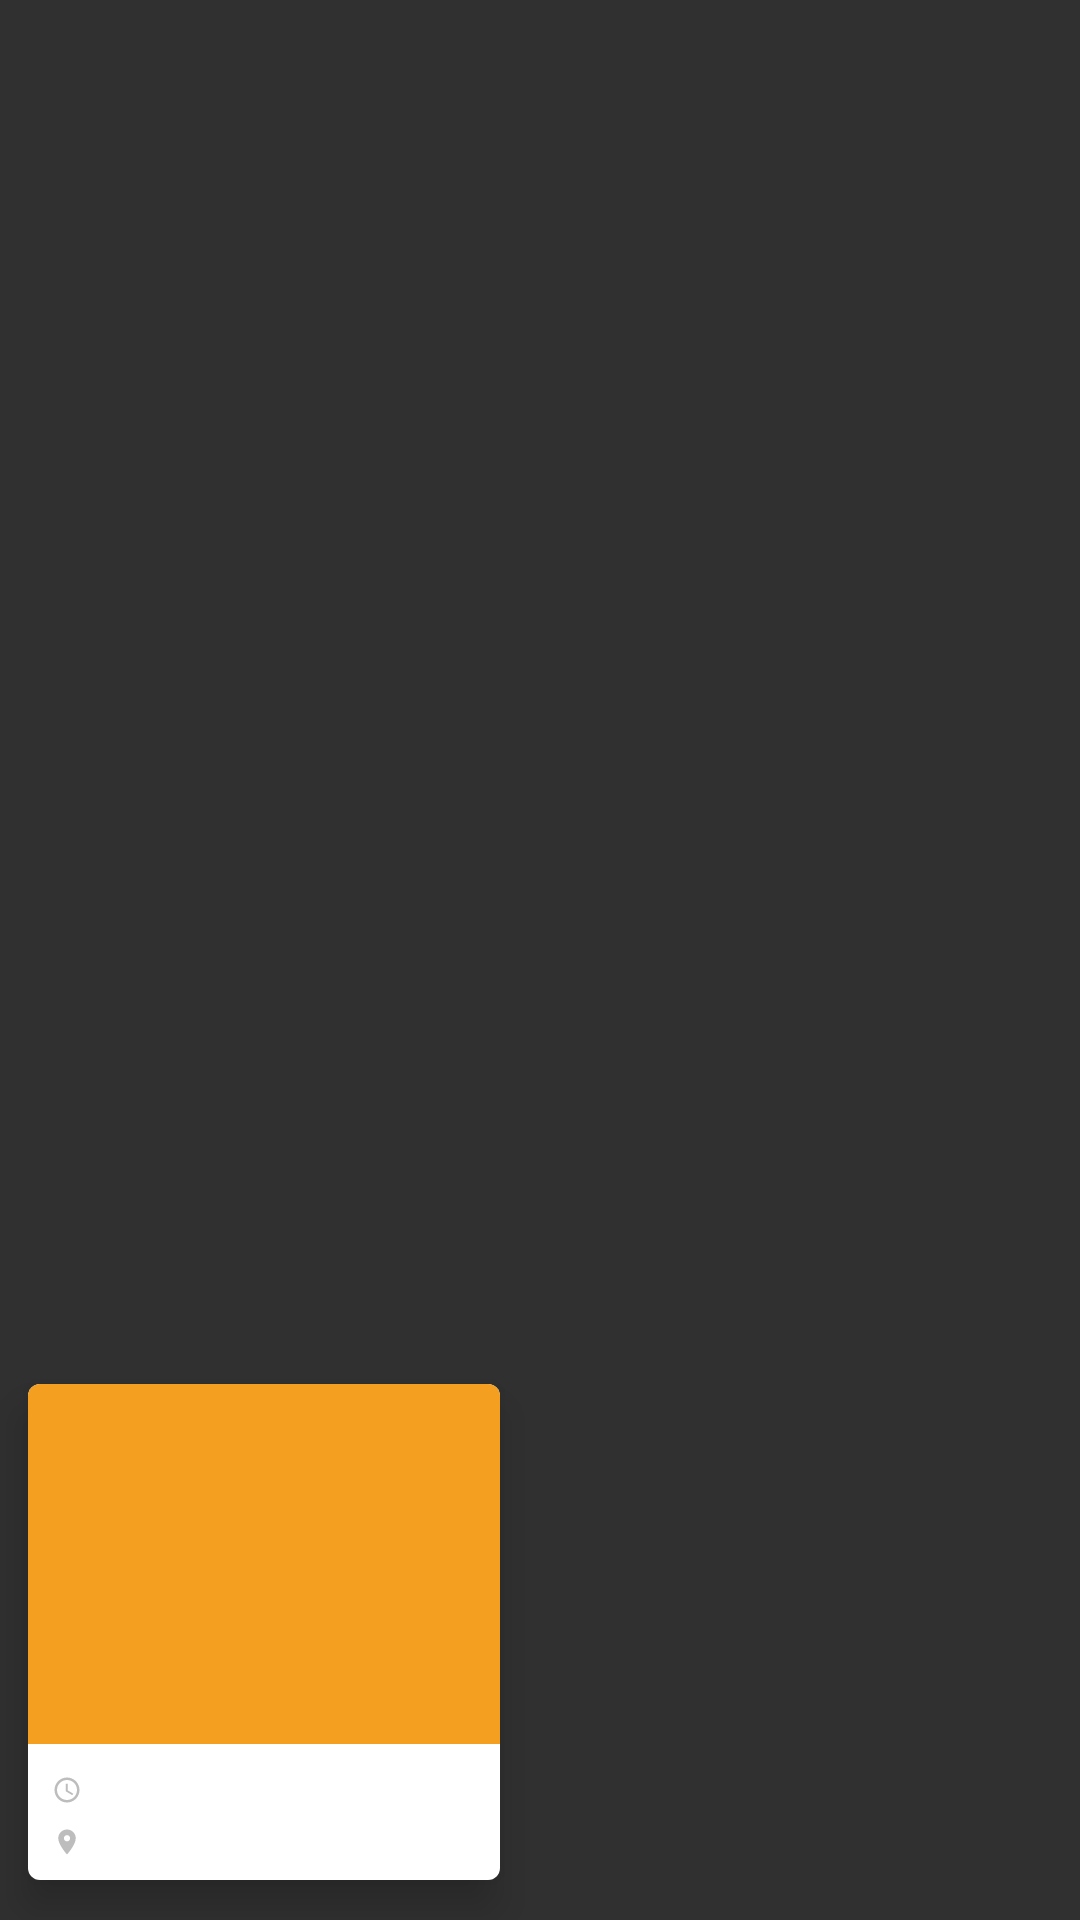

Where to tap for icons on this 1080 × 1920 app screen, as point (x, y):
access time: point (67, 1790)
location on: point (67, 1841)
